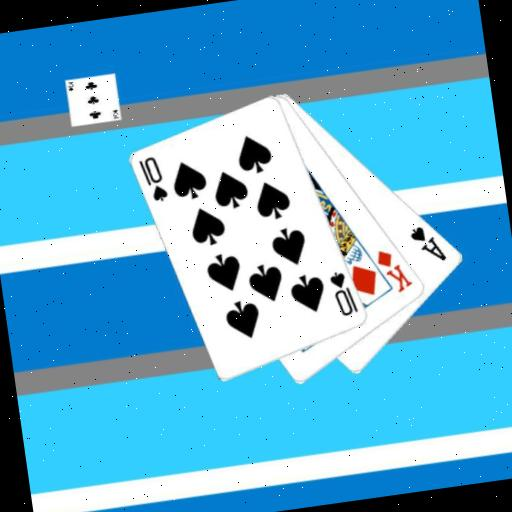10S: (326, 266, 361, 320), (136, 152, 171, 206)
AS: (406, 220, 449, 267)
KD: (373, 243, 416, 297)
